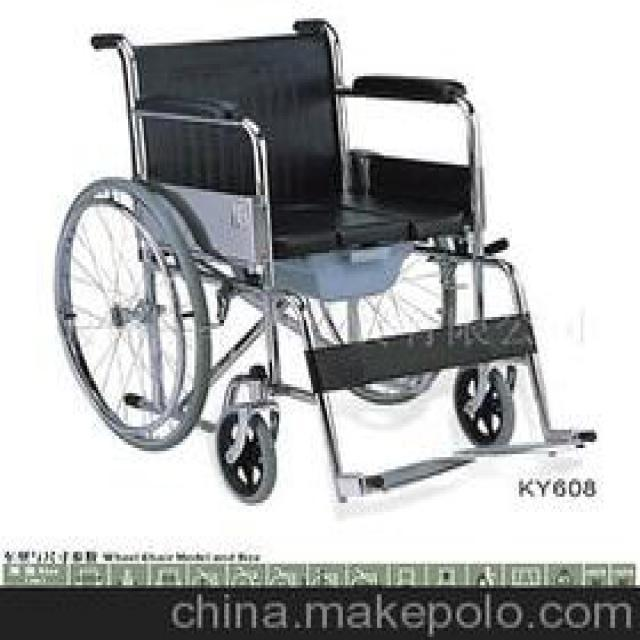wheelchair: (46, 12, 604, 497)
